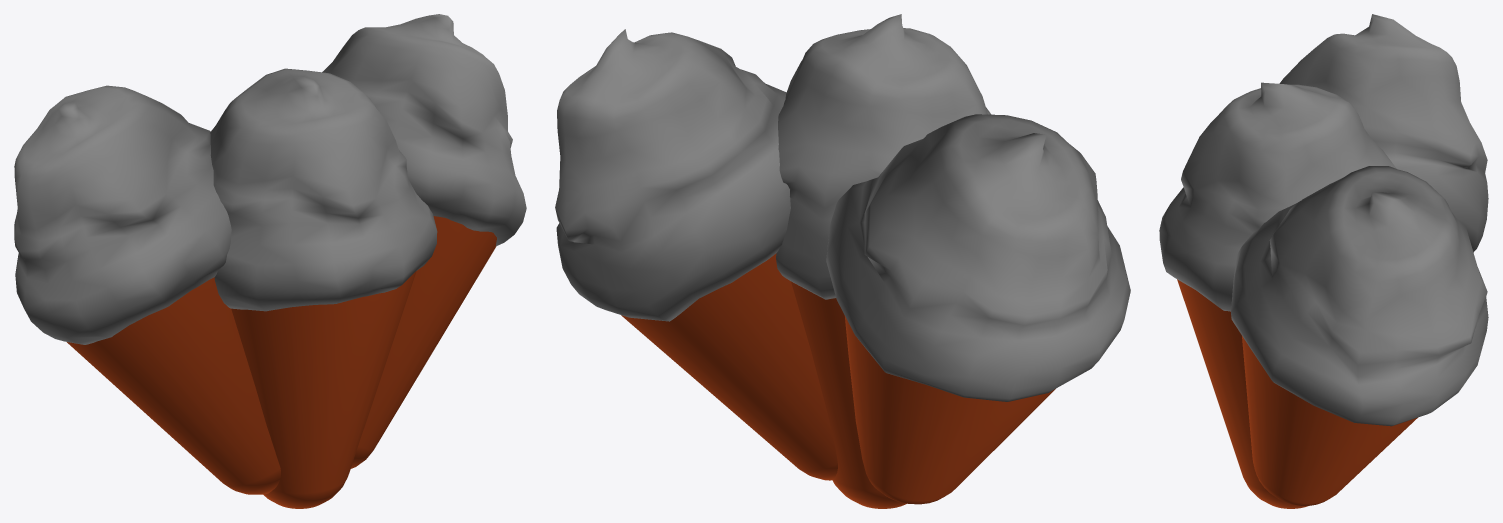
The model's file is DondurmaGelismis.FBX.
3 views of the same model, side by side, from view 1: azimuth 30°, elevation 25°; view 2: azimuth 150°, elevation 25°; view 3: azimuth 270°, elevation 25° (orthographic). The views are drawn at different scales.
Visible parts, largest first — view 1: DonudurmaGelismis; view 2: DonudurmaGelismis; view 3: DonudurmaGelismis.
Part boxes in pixels (left/top/right/bottom): DonudurmaGelismis: left=14, top=14, right=526, bottom=508; DonudurmaGelismis: left=555, top=14, right=1130, bottom=508; DonudurmaGelismis: left=1159, top=14, right=1488, bottom=508.
Bounding box in the file's own units: 388 × 332 × 236.
